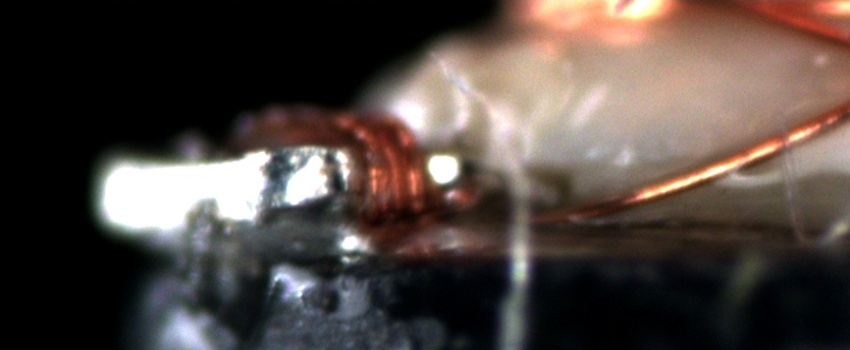TE: (284, 102, 447, 229)
